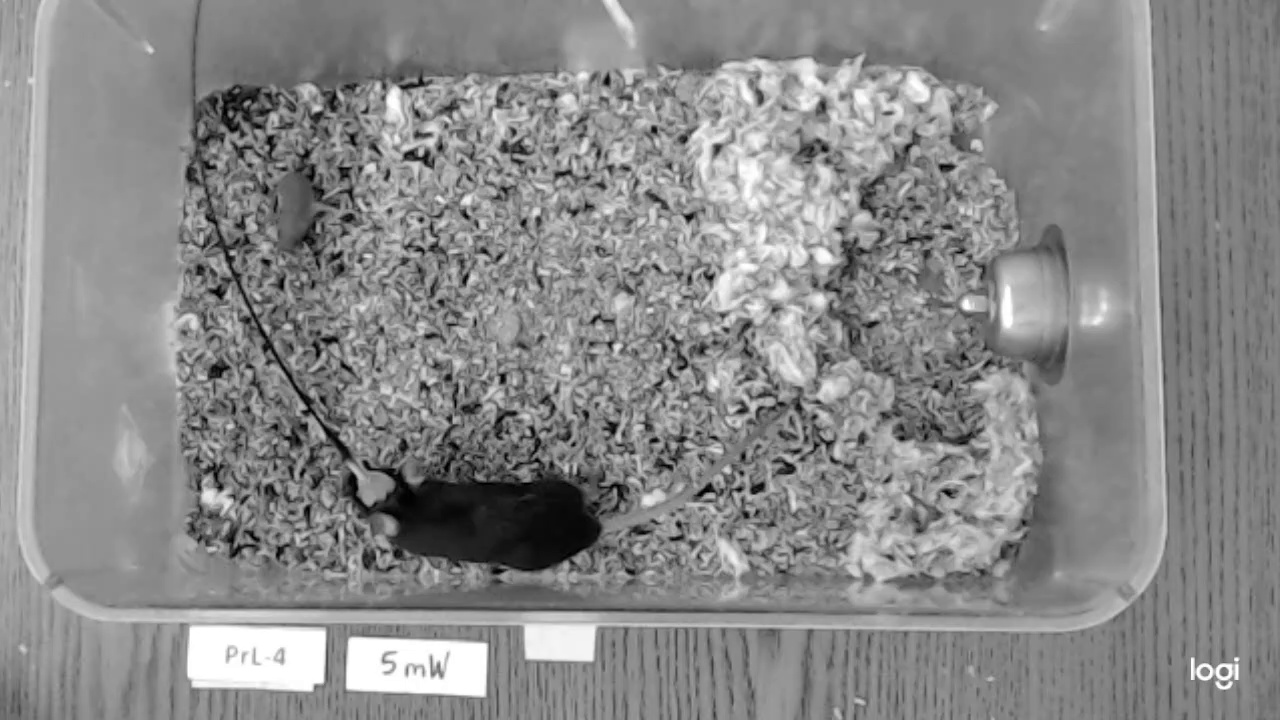child-mice: (272, 171, 314, 247)
